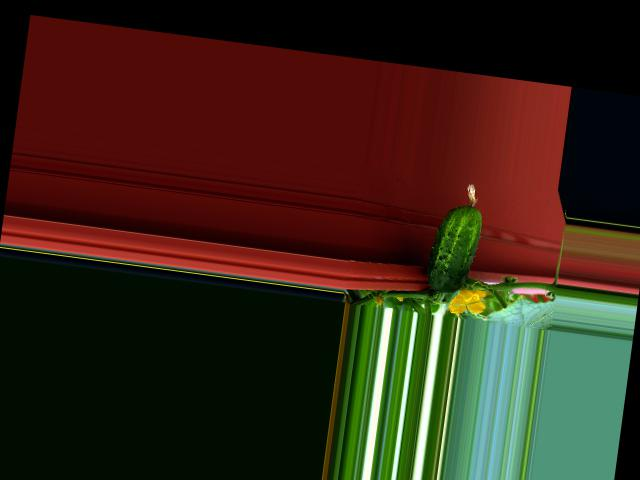cucumber: (425, 179, 487, 297)
